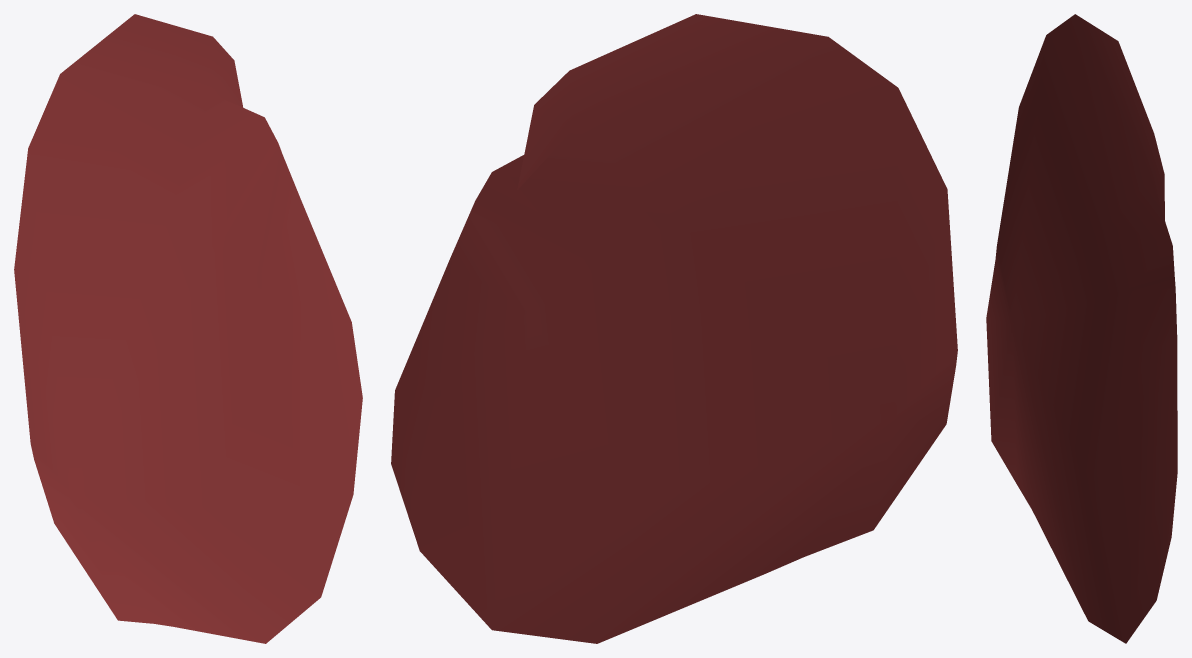
The model's file is longissimus-thoracis-muscle-e8l.glb.
3 views of the same model, side by side, from view 1: azimuth 30°, elevation 25°; view 2: azimuth 150°, elevation 25°; view 3: azimuth 270°, elevation 25° (orthographic). The views are drawn at different scales.
Visible parts, largest first — view 1: Longissimus thoracis muscle.e8l; view 2: Longissimus thoracis muscle.e8l; view 3: Longissimus thoracis muscle.e8l.
Part boxes in pixels (x1,y1,x2,y2): Longissimus thoracis muscle.e8l: (14, 14, 362, 643); Longissimus thoracis muscle.e8l: (391, 14, 957, 643); Longissimus thoracis muscle.e8l: (986, 14, 1177, 643).
Size of the model in its own units: 0.00569 by 0.00794 by 0.00258.
